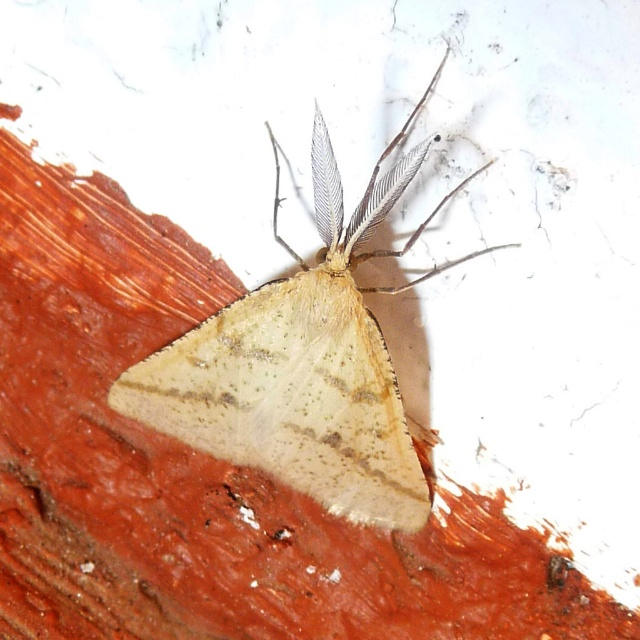Moths and butterflies: (108, 35, 524, 536)
